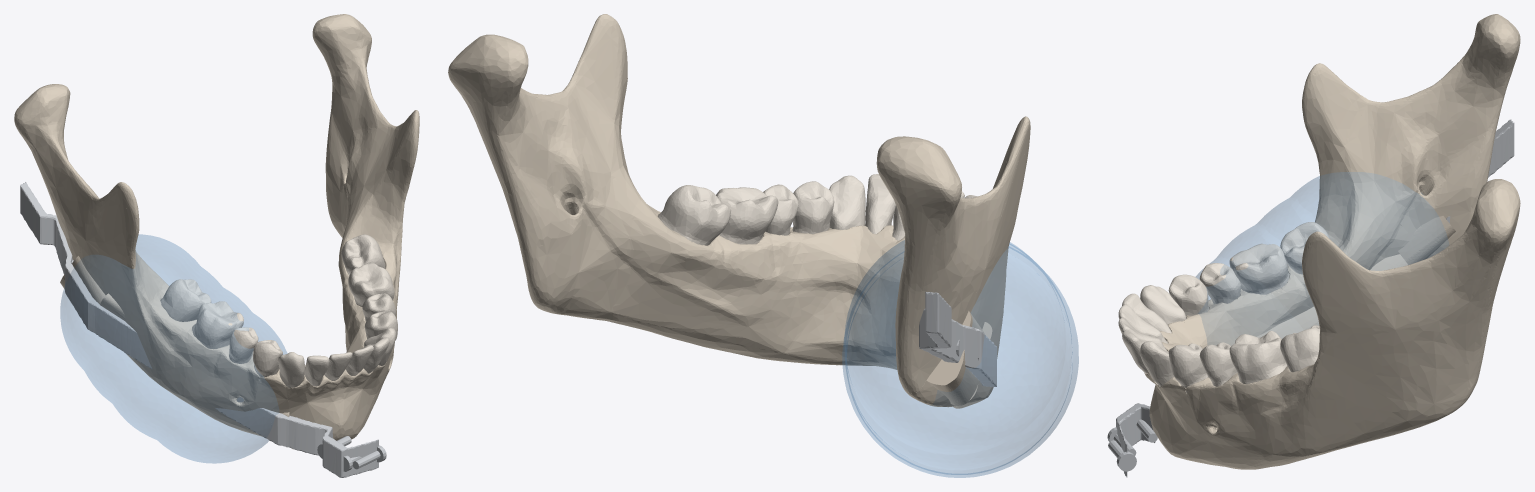
File: ameloblastoma.glb
3 renders of one model, left to right at view 1: azimuth 30°, elevation 25°; view 2: azimuth 150°, elevation 25°; view 3: azimuth 270°, elevation 25°, orthographic. The views are drawn at different scales.
Visible parts, largest first — view 1: margin, bone, specimen_bone, plate, teeth, specimen_teeth, fibula, extracted_teeth, screws; view 2: bone, margin, teeth, specimen_bone, plate, fibula; view 3: bone, margin, specimen_bone, teeth, specimen_teeth, fibula, plate, extracted_teeth, screws.
Part boxes in pixels (left/top/right/bottom): margin: left=60, top=234, right=287, bottom=463; bone: left=14, top=14, right=419, bottom=440; specimen_bone: left=78, top=199, right=289, bottom=436; plate: left=20, top=182, right=378, bottom=477; teeth: left=304, top=234, right=397, bottom=386; specimen_teeth: left=160, top=279, right=282, bottom=381; fibula: left=60, top=256, right=293, bottom=449; extracted_teeth: left=278, top=352, right=304, bottom=388; screws: left=62, top=259, right=386, bottom=471; bone: left=448, top=14, right=1030, bottom=393; margin: left=842, top=240, right=1078, bottom=477; teeth: left=658, top=174, right=977, bottom=245; specimen_bone: left=903, top=147, right=1028, bottom=408; plate: left=919, top=291, right=996, bottom=386; fibula: left=926, top=311, right=992, bottom=405; bone: left=1144, top=14, right=1520, bottom=469; margin: left=1196, top=172, right=1448, bottom=345; specimen_bone: left=1183, top=92, right=1460, bottom=348; teeth: left=1118, top=293, right=1319, bottom=393; specimen_teeth: left=1168, top=222, right=1329, bottom=315; fibula: left=1256, top=216, right=1455, bottom=338; plate: left=1116, top=119, right=1514, bottom=477; extracted_teeth: left=1140, top=285, right=1186, bottom=324; screws: left=1107, top=216, right=1450, bottom=471.
Size of the model in its own units: 0.1045 by 0.0876 by 0.089.
